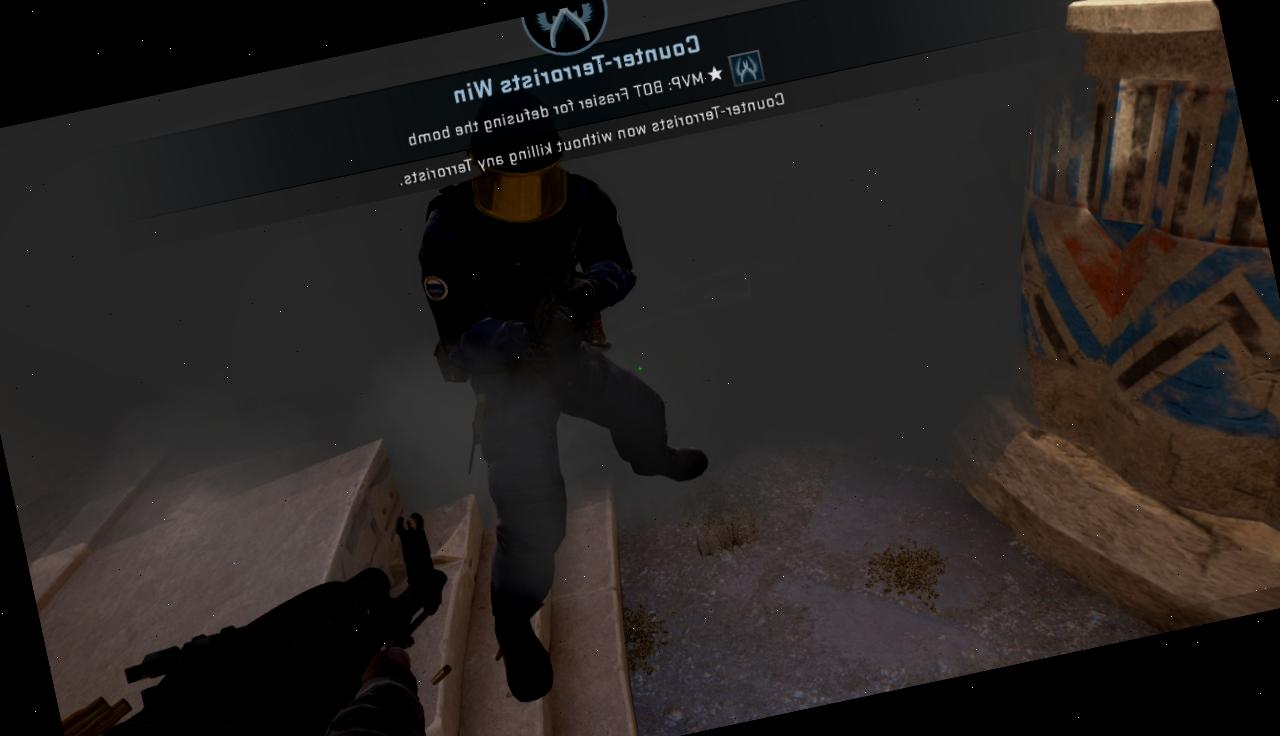ct: (392, 92, 704, 626)
cthead: (458, 108, 574, 230)
rifle: (33, 508, 490, 736)
